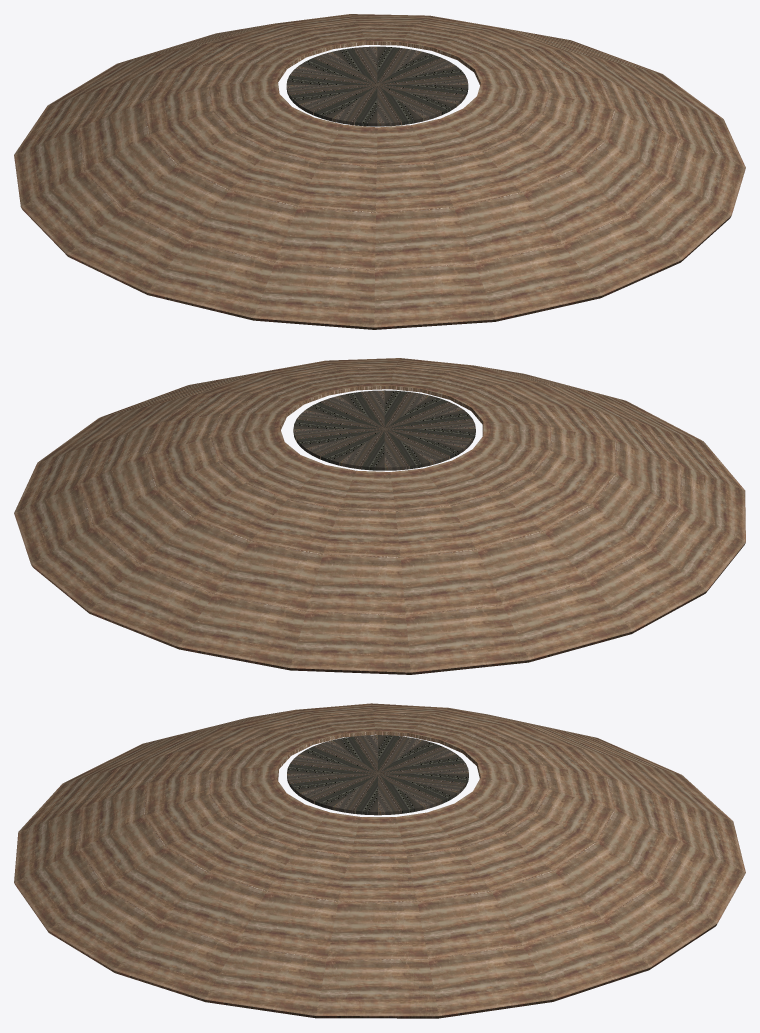
The picture shows the model from 3 angles, top to bottom: view 1: azimuth 30°, elevation 25°; view 2: azimuth 150°, elevation 25°; view 3: azimuth 270°, elevation 25°; orthographic projection.
Visible parts, largest first — view 1: SM_Titan_Ceiling_B_LOD0; view 2: SM_Titan_Ceiling_B_LOD0; view 3: SM_Titan_Ceiling_B_LOD0.
Boxes of the visible parts, x1=… form: SM_Titan_Ceiling_B_LOD0: x1=14, y1=14, x2=745, y2=329; SM_Titan_Ceiling_B_LOD0: x1=14, y1=358, x2=745, y2=674; SM_Titan_Ceiling_B_LOD0: x1=14, y1=703, x2=745, y2=1018.
Bounding box in the file's own units: 50.2 × 6.93 × 50.29.
2 materials, 2 textured.
